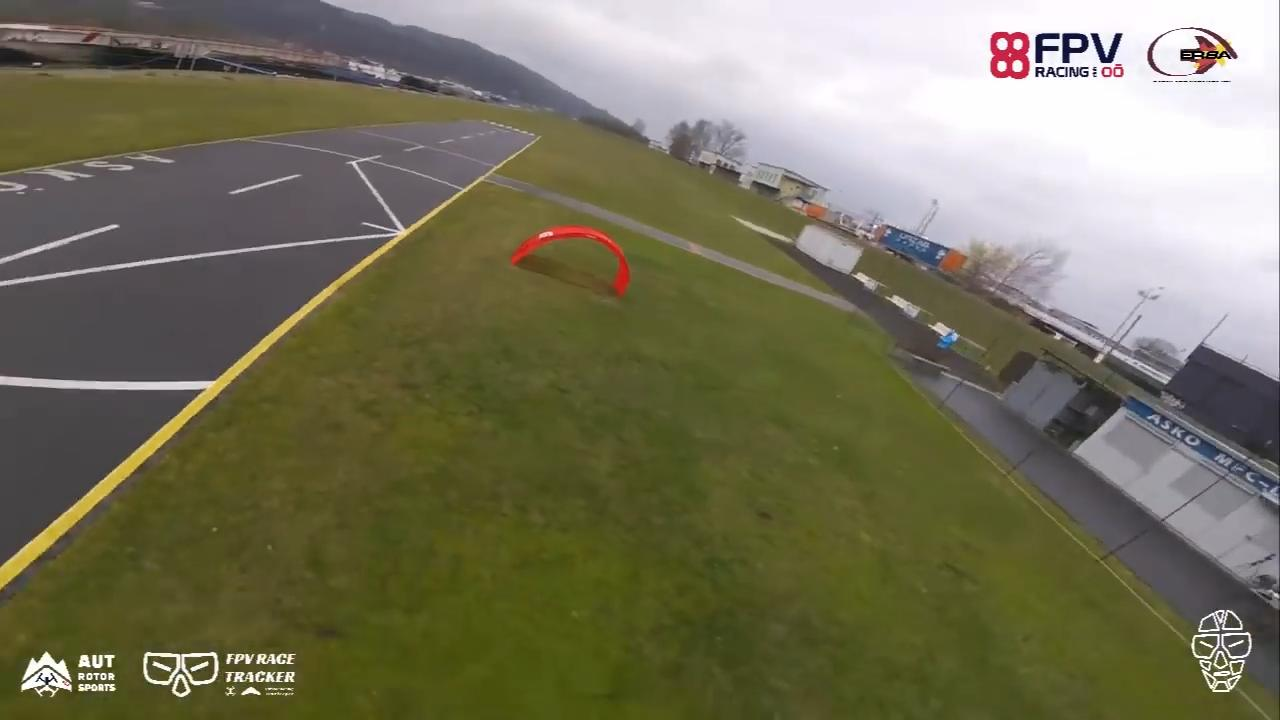gate: (506, 222, 631, 301)
